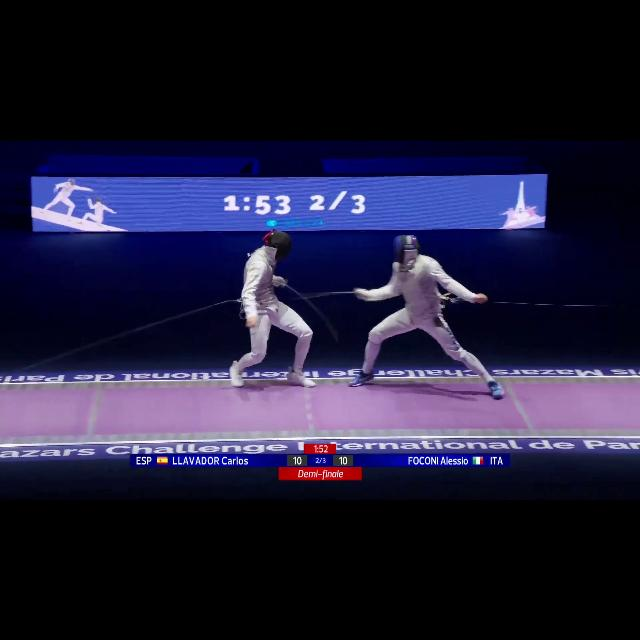blade: (276, 278, 342, 342), (283, 288, 367, 306)
